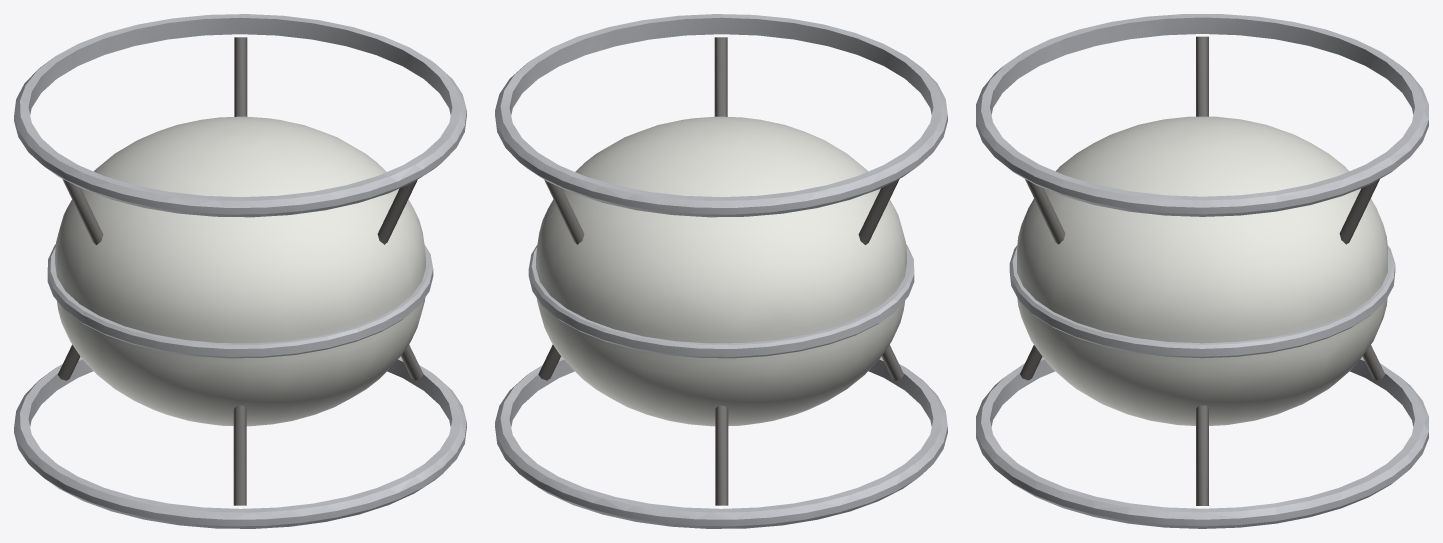
File: ax_tank_13_green_monoprop_s.glb
3 views of the same model, side by side, from view 1: azimuth 30°, elevation 25°; view 2: azimuth 150°, elevation 25°; view 3: azimuth 270°, elevation 25° (orthographic).
Visible parts, largest first — view 1: tank, mount_rings, girth_ring, struts; view 2: tank, mount_rings, girth_ring, struts; view 3: tank, mount_rings, girth_ring, struts.
Boxes of the visible parts, x1,y1,x2,y2 form: tank: (55, 116, 425, 426); mount_rings: (14, 14, 466, 528); girth_ring: (47, 244, 433, 358); struts: (57, 37, 423, 505); tank: (536, 116, 906, 426); mount_rings: (495, 14, 947, 528); girth_ring: (528, 244, 914, 358); struts: (538, 37, 904, 505); tank: (1017, 116, 1387, 425); mount_rings: (976, 14, 1428, 528); girth_ring: (1009, 245, 1395, 358); struts: (1020, 36, 1384, 505).
Bounding box in the file's own units: 1.25 × 1 × 1.25.
3 materials, 2 textured.
